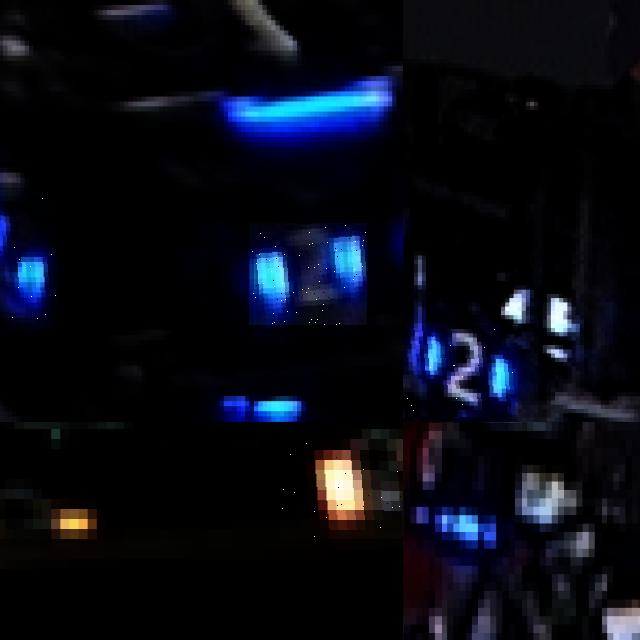B2: (249, 223, 367, 325), (403, 323, 517, 417), (0, 190, 57, 332)
Rs: (279, 439, 403, 539)
